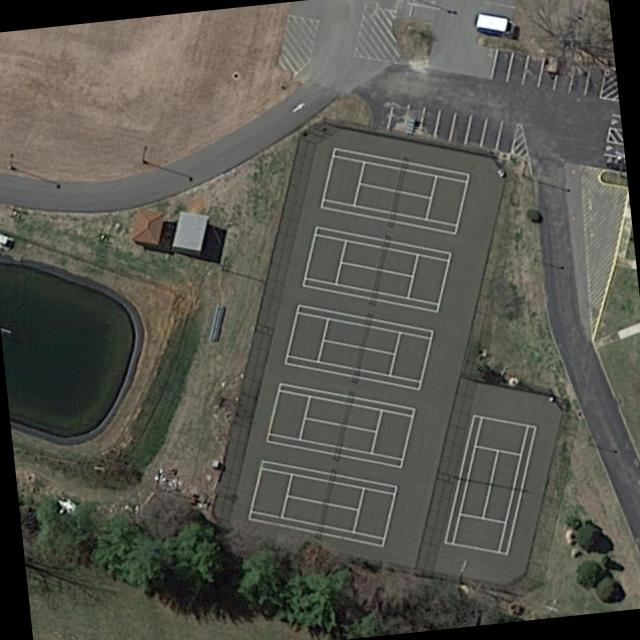large-vehicle: (473, 13, 515, 38)
